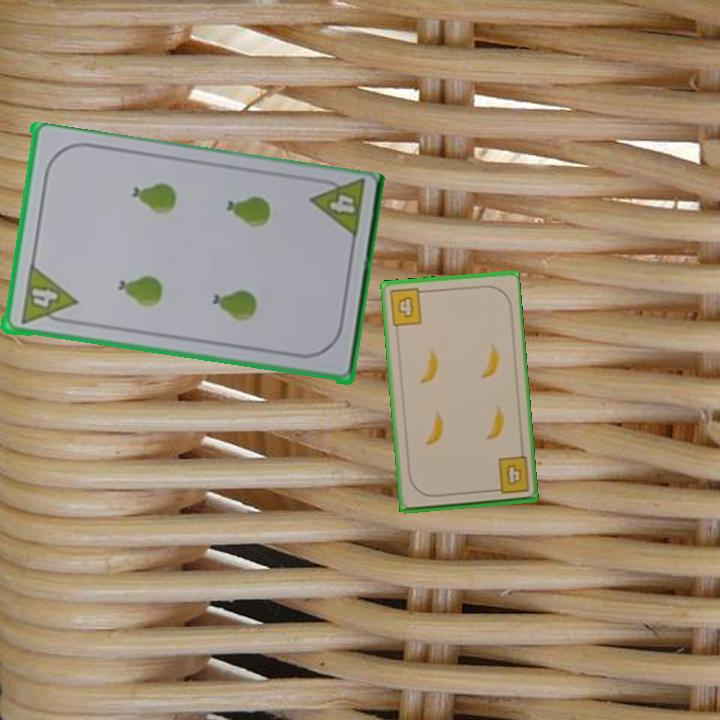4b: (385, 285, 429, 329), (488, 453, 532, 497)
4p: (25, 263, 78, 312), (325, 191, 357, 216)
